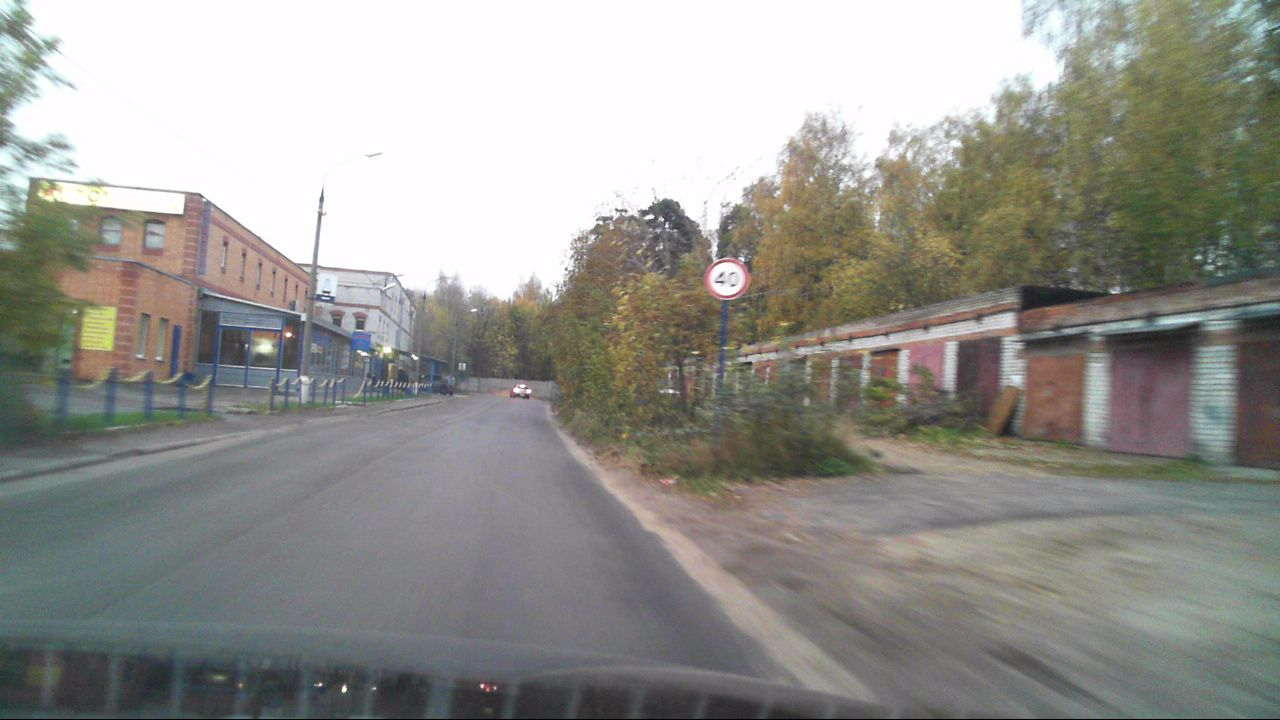speed_warning_40: (704, 257, 748, 301)
